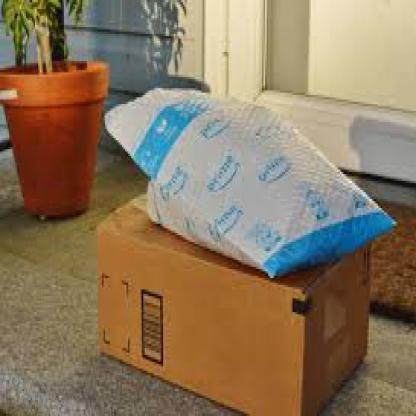package: (94, 184, 375, 416)
